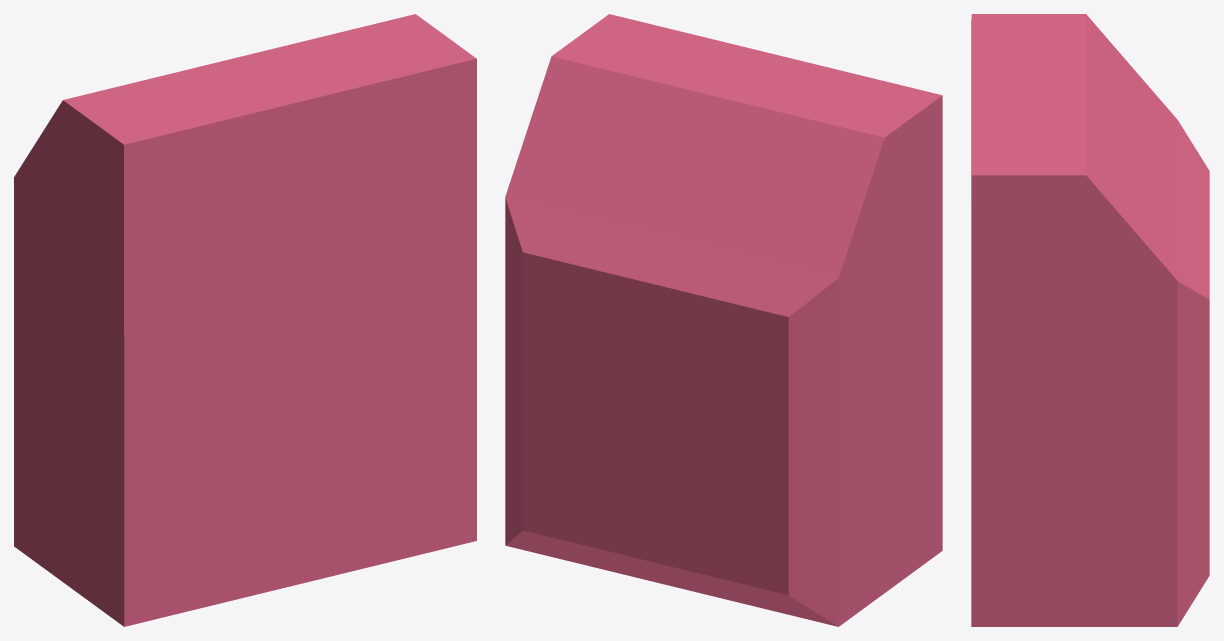
File: turela.fbx
3 views of the same model, side by side, from view 1: azimuth 30°, elevation 25°; view 2: azimuth 150°, elevation 25°; view 3: azimuth 270°, elevation 25° (orthographic). The views are drawn at different scales.
Visible parts, largest first — view 1: Cube.001; view 2: Cube.001; view 3: Cube.001.
Boxes of the visible parts, x1=… form: Cube.001: x1=14, y1=14, x2=476, y2=626; Cube.001: x1=505, y1=14, x2=942, y2=626; Cube.001: x1=971, y1=14, x2=1209, y2=626.
Size of the model in its own units: 200 by 261 by 125.
